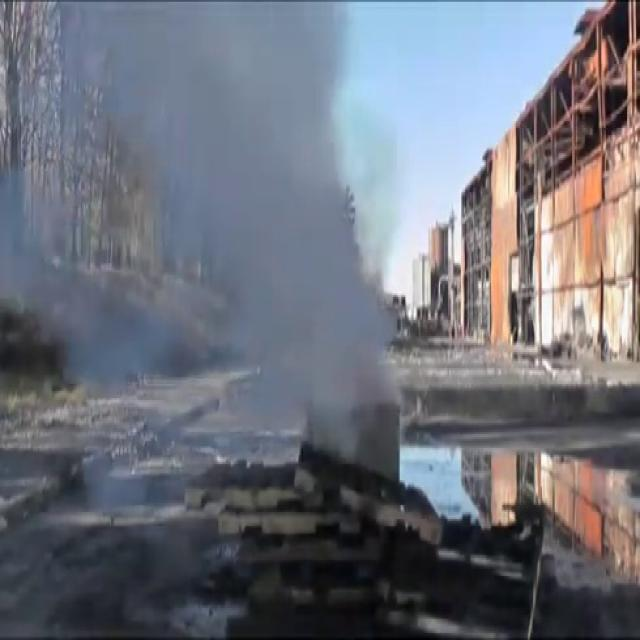Smoke: (1, 2, 406, 474)
